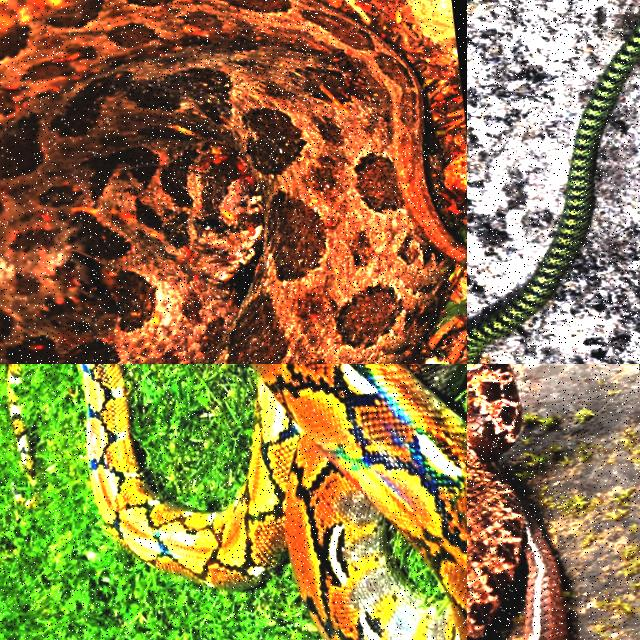Chrysopelea ornata: (467, 23, 639, 363)
Daboia siamensis: (0, 0, 466, 363)
Malayopython reticulatus: (84, 364, 466, 639)
Ovophis monticola: (467, 364, 568, 639)
snake: (0, 0, 466, 363), (84, 364, 466, 639), (467, 23, 639, 363), (467, 364, 568, 639)
